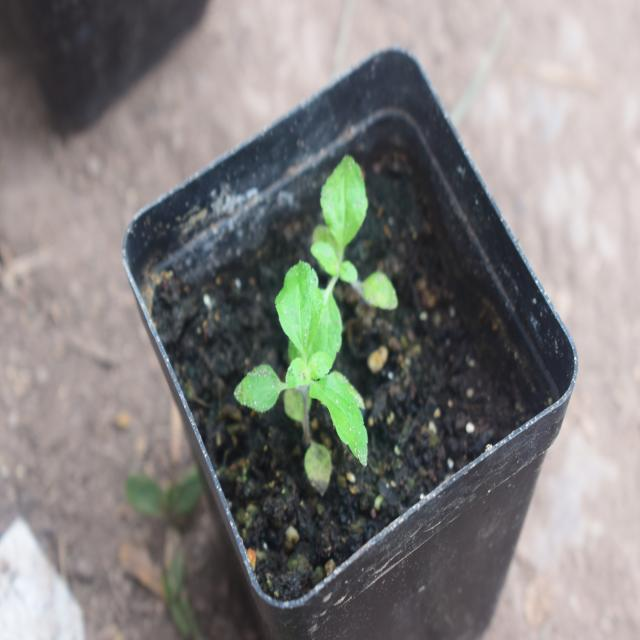billygoat_weed: (245, 244, 381, 471)
